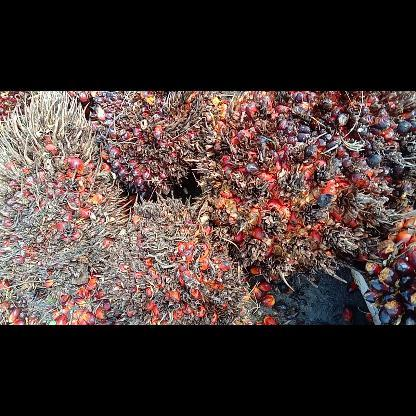Terlalu masak: (195, 91, 415, 285), (0, 91, 132, 299), (94, 192, 256, 324), (88, 90, 236, 200)
